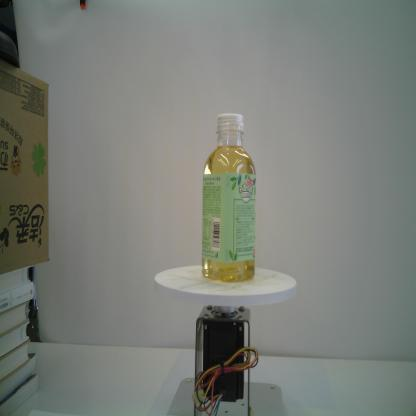Drink: (201, 111, 257, 285)
